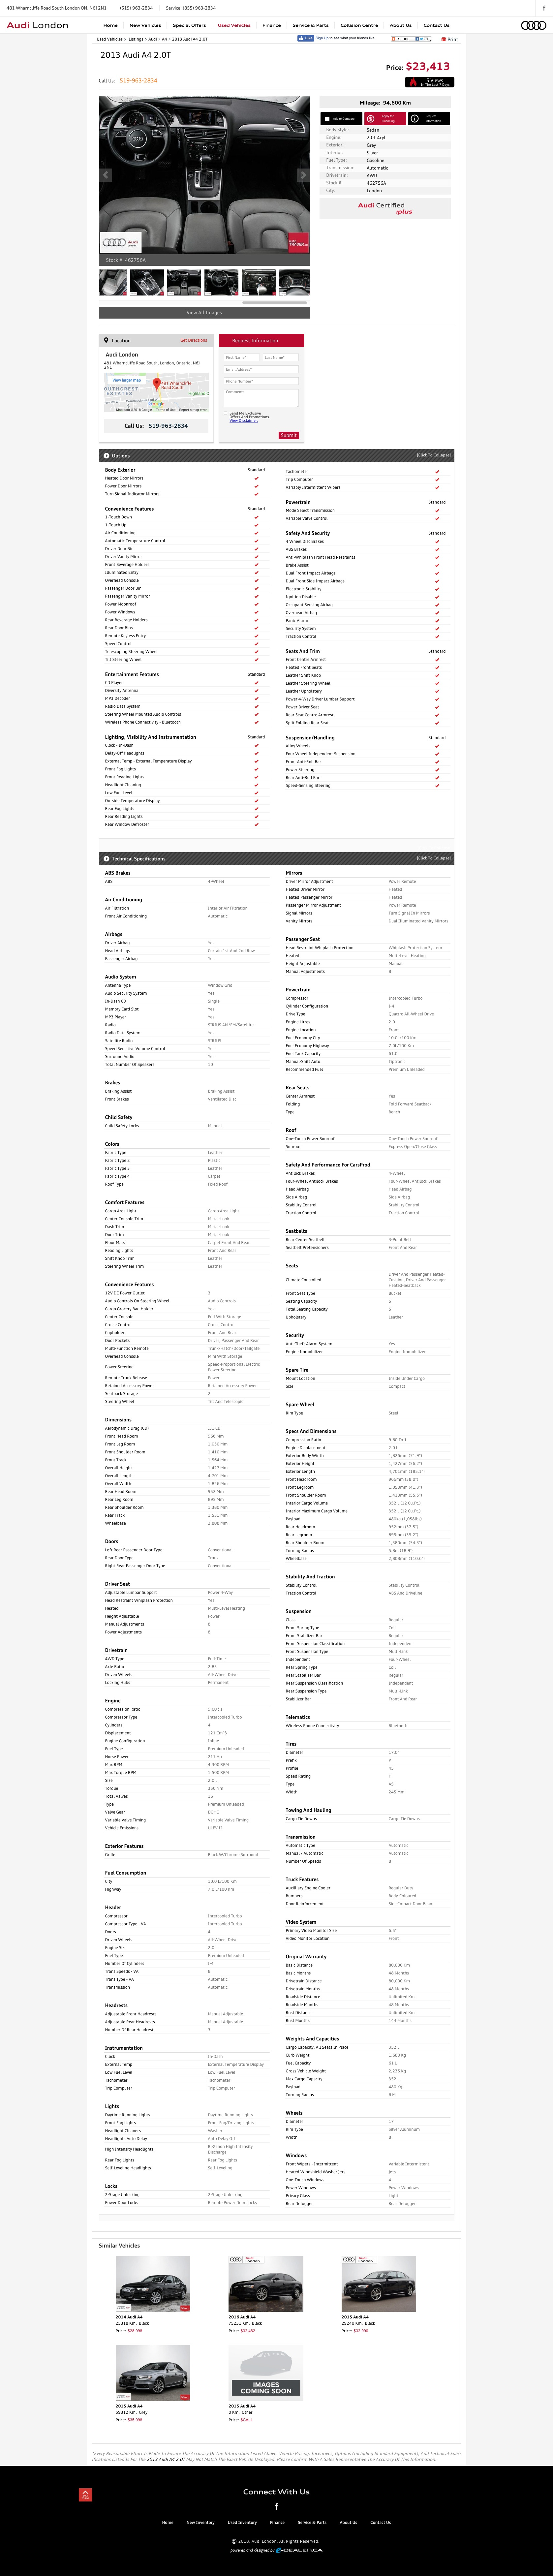car: (297, 169, 310, 182)
